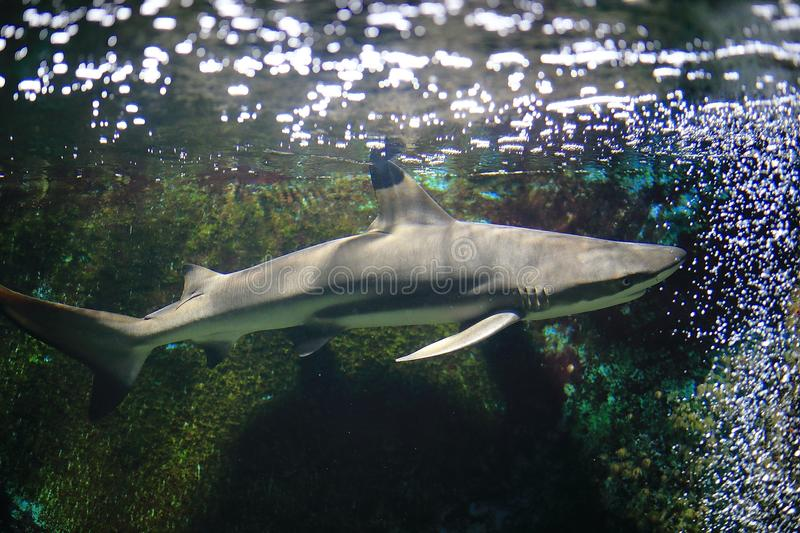shark: (1, 145, 701, 438)
